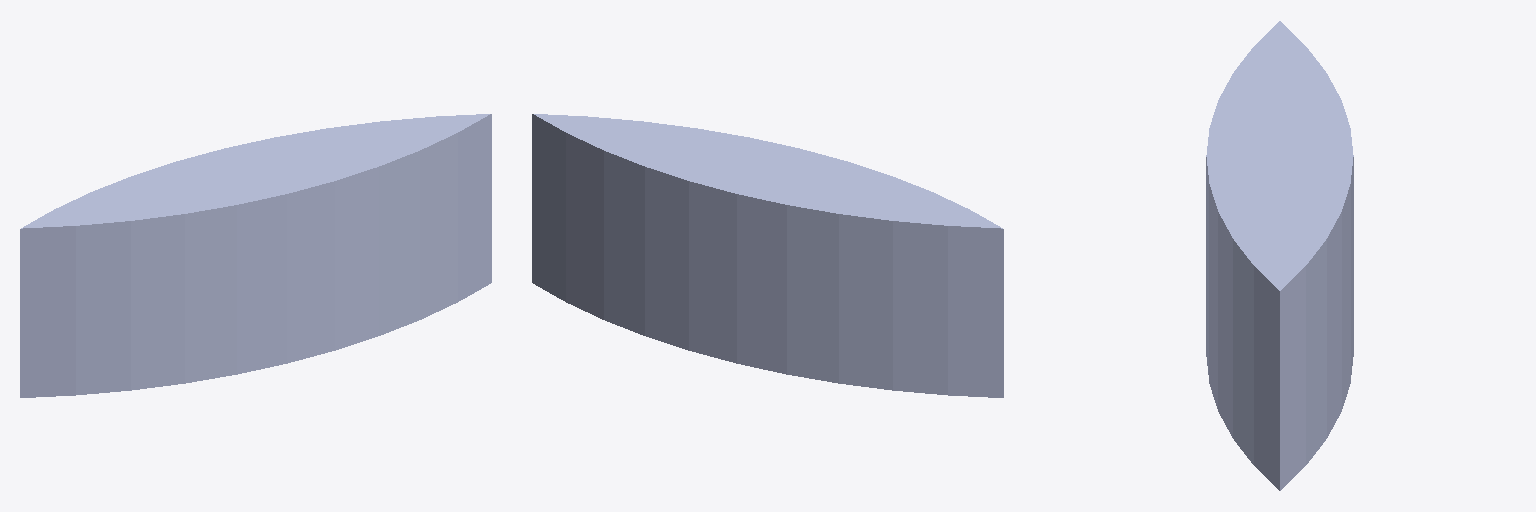
The robot description file, URDF, robot "tubestraight0401":
<?xml version="1.0" encoding="utf-8"?>
<!-- This URDF was automatically created by SolidWorks to URDF Exporter! Originally created by [author] ([email redacted]) 
     Commit Version: 1.6.0-1-g15f4949  Build Version: 1.6.7594.29634
     For more information, please see http://wiki.ros.org/sw_urdf_exporter -->
<robot
  name="tubestraight0401">
  <link
    name="base_link">
    <inertial>
      <origin
        xyz="1.25 -0.00098688 0.62711"
        rpy="0 0 0" />
      <mass
        value="106.93" />
      <inertia
        ixx="78.399"
        ixy="3.0113E-13"
        ixz="-7.3168E-14"
        iyy="69.372"
        iyz="-0.066809"
        izz="120.41" />
    </inertial>
    <visual>
      <origin
        xyz="0 0 0"
        rpy="0 0 0" />
      <geometry>
        <mesh
          filename="package://tubestraight0401/meshes/base_link.STL" />
      </geometry>
      <material
        name="">
        <color
          rgba="1 0.75294 1 1" />
      </material>
    </visual>
    <collision>
      <origin
        xyz="0 0 0"
        rpy="0 0 0" />
      <geometry>
        <mesh
          filename="package://tubestraight0401/meshes/base_link.STL" />
      </geometry>
    </collision>
  </link>
  <link
    name="Link_wing">
    <inertial>
      <origin
        xyz="8.8818E-16 0.12972 1.25"
        rpy="0 0 0" />
      <mass
        value="15074" />
      <inertia
        ixx="14789"
        ixy="-6.8212E-13"
        ixz="1021.7"
        iyy="13454"
        iyz="-4.7891E-12"
        izz="10901" />
    </inertial>
    <visual>
      <origin
        xyz="0 0 0"
        rpy="0 0 0" />
      <geometry>
        <mesh
          filename="package://tubestraight0401/meshes/Link_wing.STL" />
      </geometry>
      <material
        name="">
        <color
          rgba="1 1 1 1" />
      </material>
    </visual>
    <collision>
      <origin
        xyz="0 0 0"
        rpy="0 0 0" />
      <geometry>
        <mesh
          filename="package://tubestraight0401/meshes/Link_wing.STL" />
      </geometry>
    </collision>
  </link>
  <joint
    name="Joint_wing"
    type="fixed">
    <origin
      xyz="0 0 1.0635"
      rpy="1.5708 0 1.5708" />
    <parent
      link="base_link" />
    <child
      link="Link_wing" />
    <axis
      xyz="0 0 0" />
    <limit
      lower="0"
      upper="0"
      effort="0"
      velocity="0" />
  </joint>
  <link
    name="Link_grippoint">
    <inertial>
      <origin
        xyz="0 0 0.0065"
        rpy="0 0 0" />
      <mass
        value="0.0044044" />
      <inertia
        ixx="5.0607E-07"
        ixy="-3.4868E-22"
        ixz="1.6544E-22"
        iyy="1.0792E-07"
        iyz="6.538E-23"
        izz="4.4883E-07" />
    </inertial>
    <visual>
      <origin
        xyz="0 0 0"
        rpy="0 0 0" />
      <geometry>
        <mesh
          filename="package://tubestraight0401/meshes/Link_grippoint.STL" />
      </geometry>
      <material
        name="">
        <color
          rgba="0.79216 0.81961 0.93333 1" />
      </material>
    </visual>
    <collision>
      <origin
        xyz="0 0 0"
        rpy="0 0 0" />
      <geometry>
        <mesh
          filename="package://tubestraight0401/meshes/Link_grippoint.STL" />
      </geometry>
    </collision>
  </link>
  <joint
    name="Joint_grippoint"
    type="fixed">
    <origin
      xyz="1.66 0 1.0635"
      rpy="0 0 1.5708" />
    <parent
      link="base_link" />
    <child
      link="Link_grippoint" />
    <axis
      xyz="0 0 0" />
    <limit
      lower="0"
      upper="0"
      effort="0"
      velocity="0" />
  </joint>
</robot>

--- Facts derived from the render (not from the file) ---
Views: 3 orthographic renders of the robot side by side, from view 1: azimuth 30°, elevation 25°; view 2: azimuth 150°, elevation 25°; view 3: azimuth 270°, elevation 25°.
Model tubestraight0401 with 3 links and 2 joints (2 fixed), rooted at base_link, posed every joint at zero.
Links seen in each view (by area): view 1: Link_grippoint; view 2: Link_grippoint; view 3: Link_grippoint.
Boxes of the visible links, <box> form: Link_grippoint: <box>20,114,491,397</box>; Link_grippoint: <box>532,114,1003,397</box>; Link_grippoint: <box>1206,21,1353,490</box>.
Bounding box of the posed robot: 0.0436 × 0.01 × 0.015 m (x, y, z).
1 mesh visuals loaded from 3 distinct referenced files (1 binary STL); not drawn: 2 (reference not matched to a file when rendering).